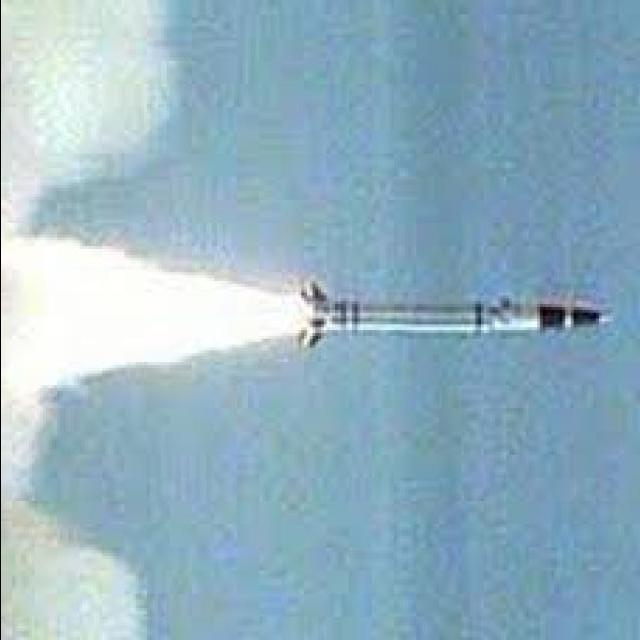Missile: (303, 298, 621, 339)
